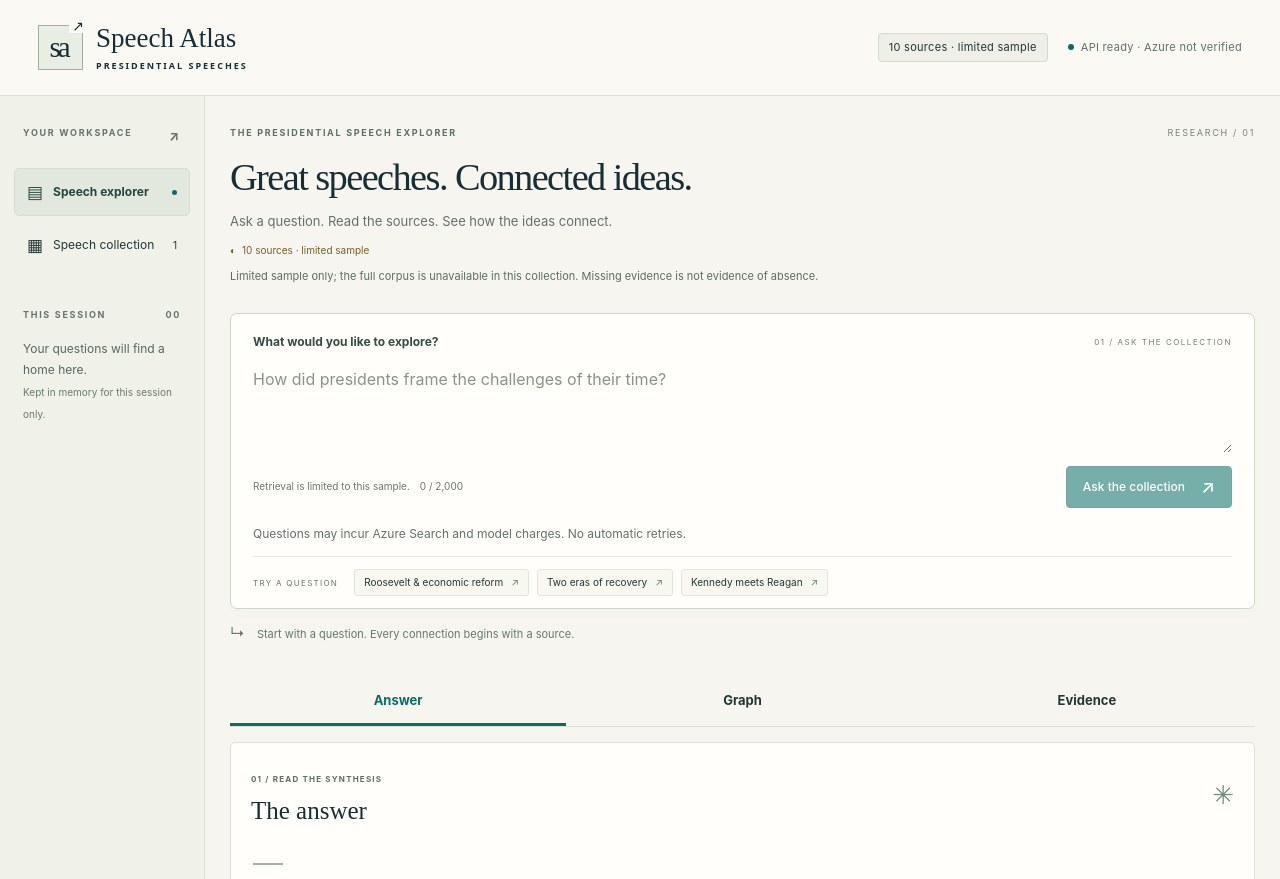
it: research workspace › preserves previous result on a new failure, with no stale-question ambiguity or retry
In the text box labelled "What would you like to explore?": coordinates (742, 402) [253,352,1232,453], type "How are the test topics connected?"
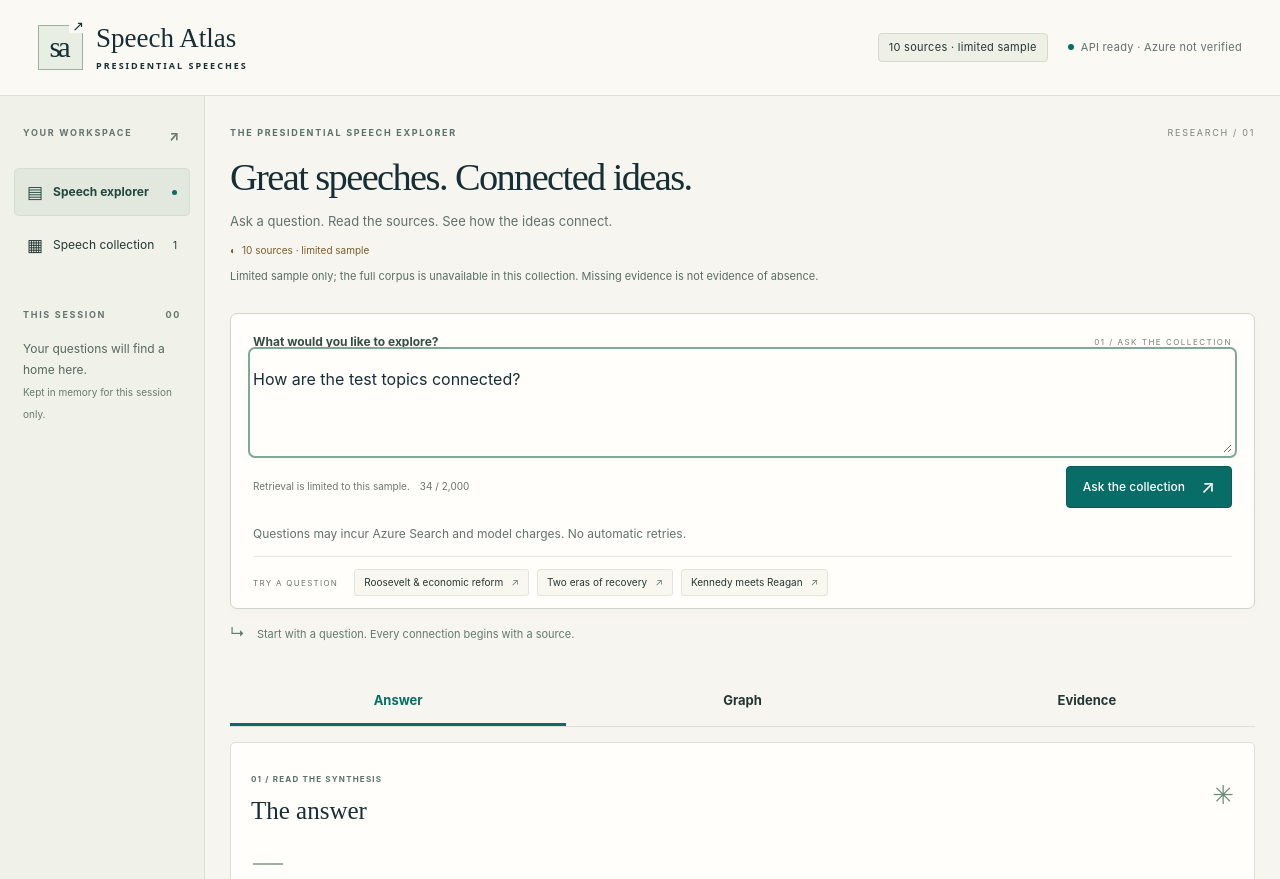
Click the button "Ask the collection ↗": coordinates (1149, 487) [1066,466,1232,508]
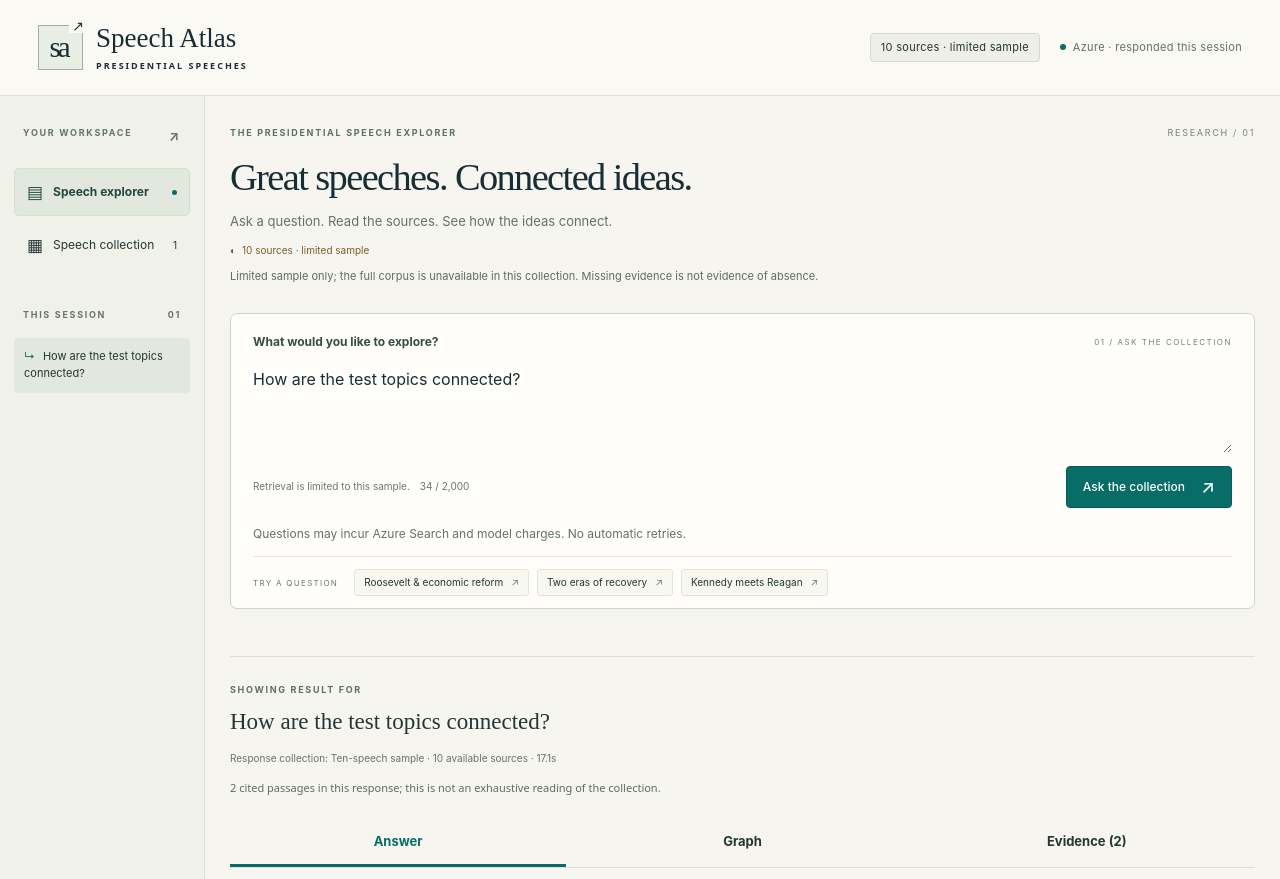
Replace the text in the text box labelled "What would you like to explore?" with "A different question": coordinates (742, 402) [253,352,1232,453]
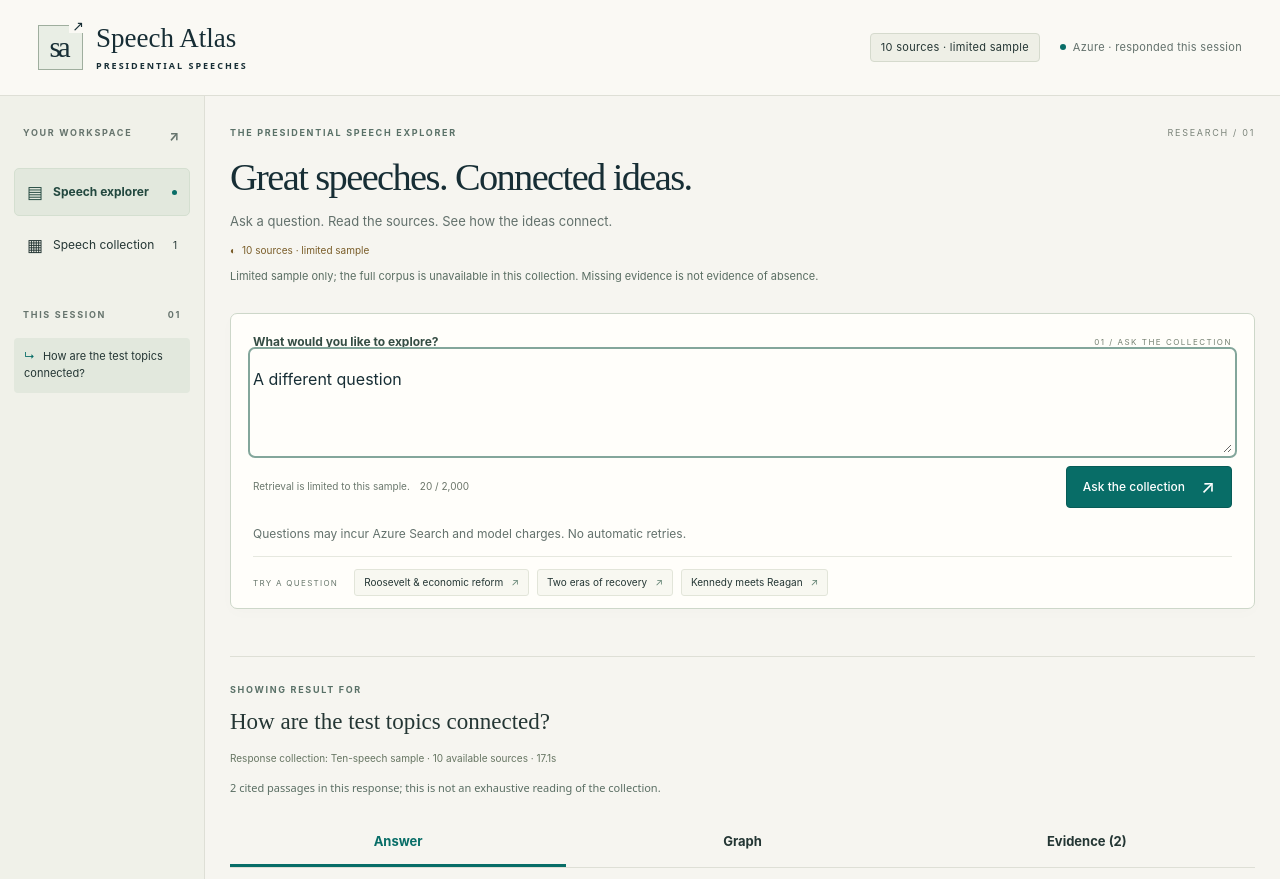
Click the button "Ask the collection ↗": coordinates (1149, 487) [1066,466,1232,508]
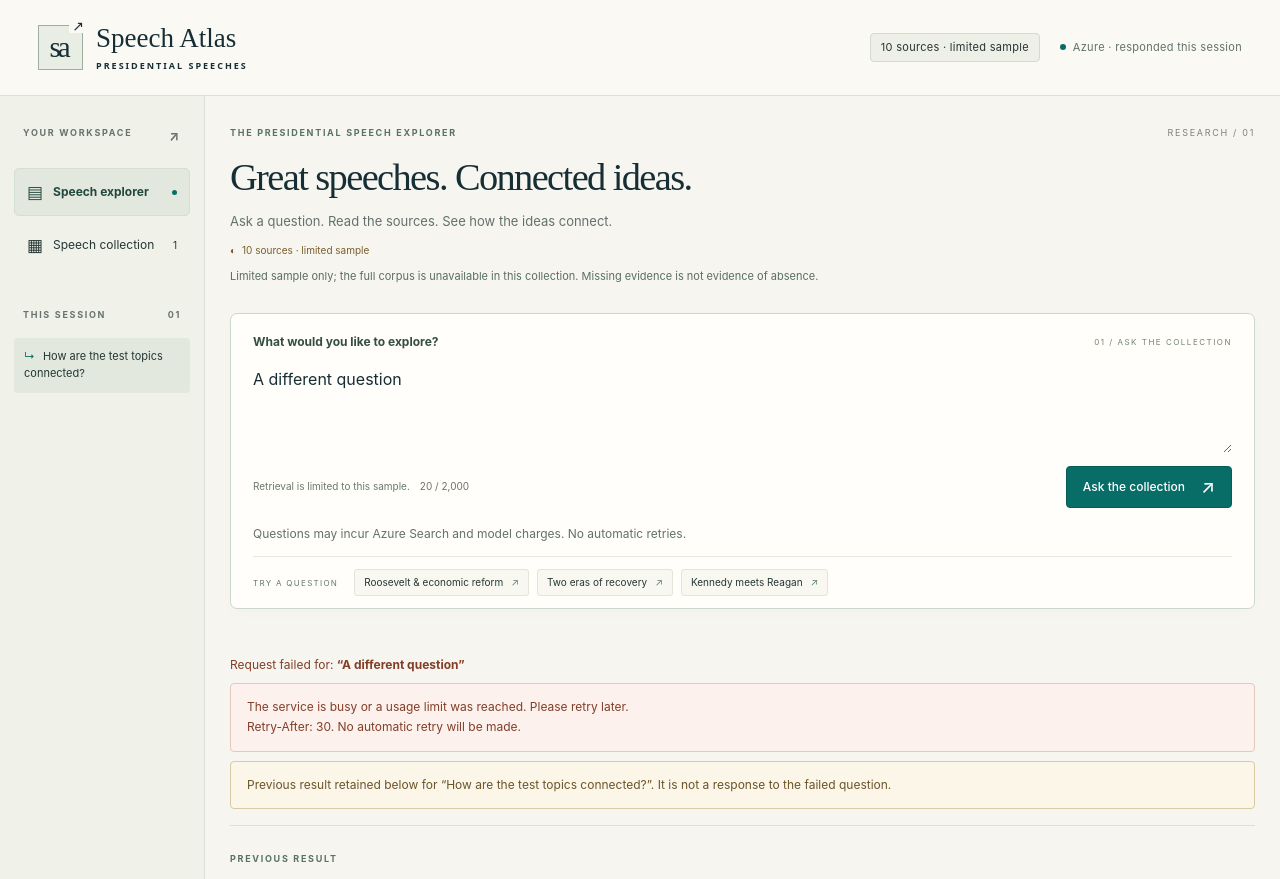
Now the text "Retry-After: 30. No automatic retry will be made." is shown, box [247,720,521,734]
Now the text "It is not a response to the failed question" shows "How are the test topics connected?", box [446,777,647,792]
Now the text "Request failed for: “A different question”" is shown, box [230,658,465,672]
